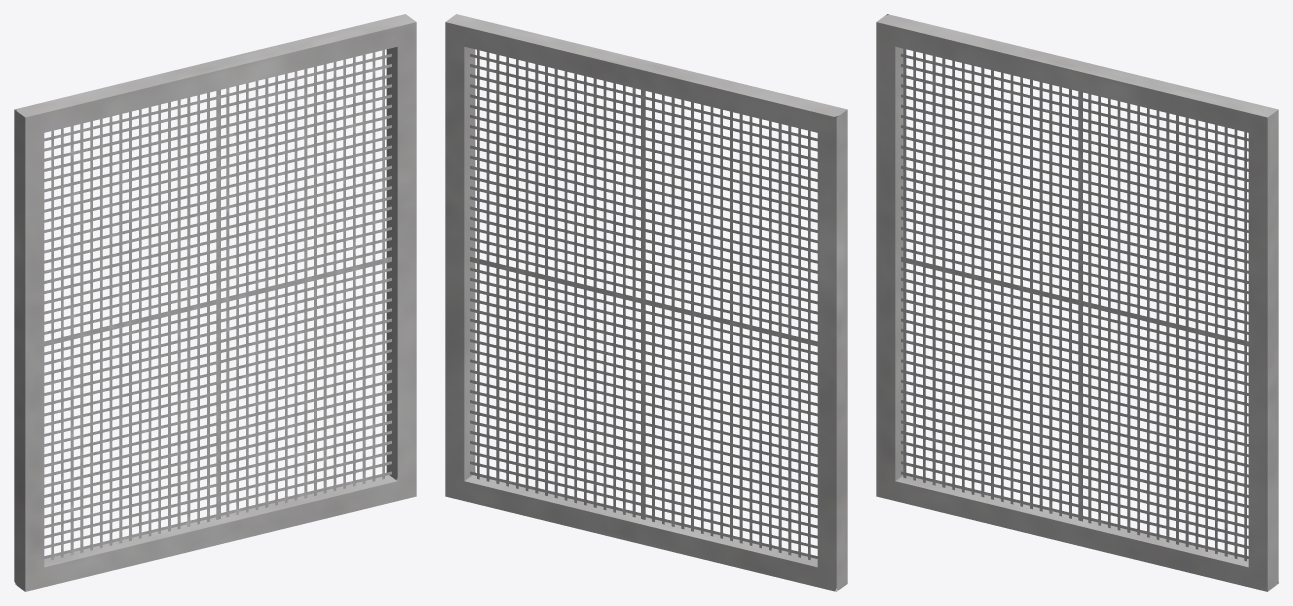
Rendered from LC_3048_VentA_LOD1.FBX.
3 renders of one model, left to right at view 1: azimuth 30°, elevation 25°; view 2: azimuth 150°, elevation 25°; view 3: azimuth 330°, elevation 25°, orthographic.
Visible parts, largest first — view 1: LC_3048_VentA_LOD1; view 2: LC_3048_VentA_LOD1; view 3: LC_3048_VentA_LOD1.
Part boxes in pixels (left/top/right/bottom): LC_3048_VentA_LOD1: left=14, top=14, right=416, bottom=591; LC_3048_VentA_LOD1: left=445, top=14, right=847, bottom=591; LC_3048_VentA_LOD1: left=876, top=14, right=1278, bottom=591.
Size of the model in its own units: 82 by 95 by 4.
1 material, 1 textured.
